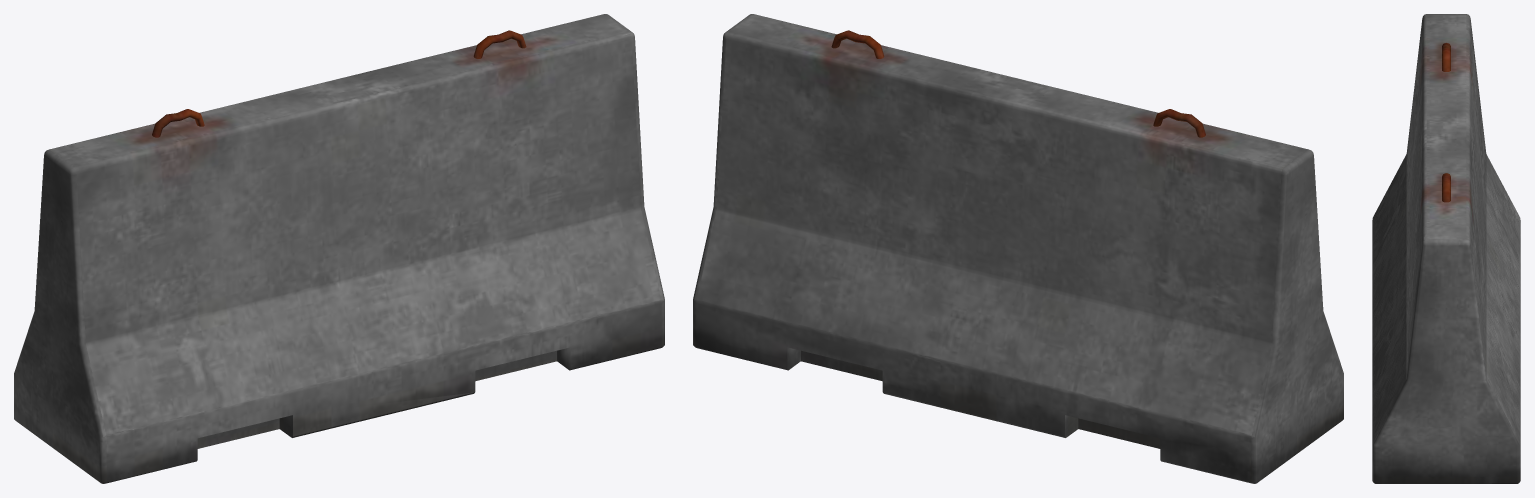
File: o3_cantiere_02.glb
The picture shows the model from 3 angles, left to right: view 1: azimuth 30°, elevation 25°; view 2: azimuth 150°, elevation 25°; view 3: azimuth 270°, elevation 25°; orthographic projection. The views are drawn at different scales.
Visible parts, largest first — view 1: sb_modello; view 2: sb_modello; view 3: sb_modello.
Boxes of the visible parts, left/top/right/bottom form: sb_modello: left=14, top=14, right=664, bottom=483; sb_modello: left=693, top=14, right=1343, bottom=483; sb_modello: left=1372, top=14, right=1520, bottom=483.
Bounding box in the file's own units: 1.77 × 0.93 × 0.4829.
Materials: 1 (1 with a texture image).
